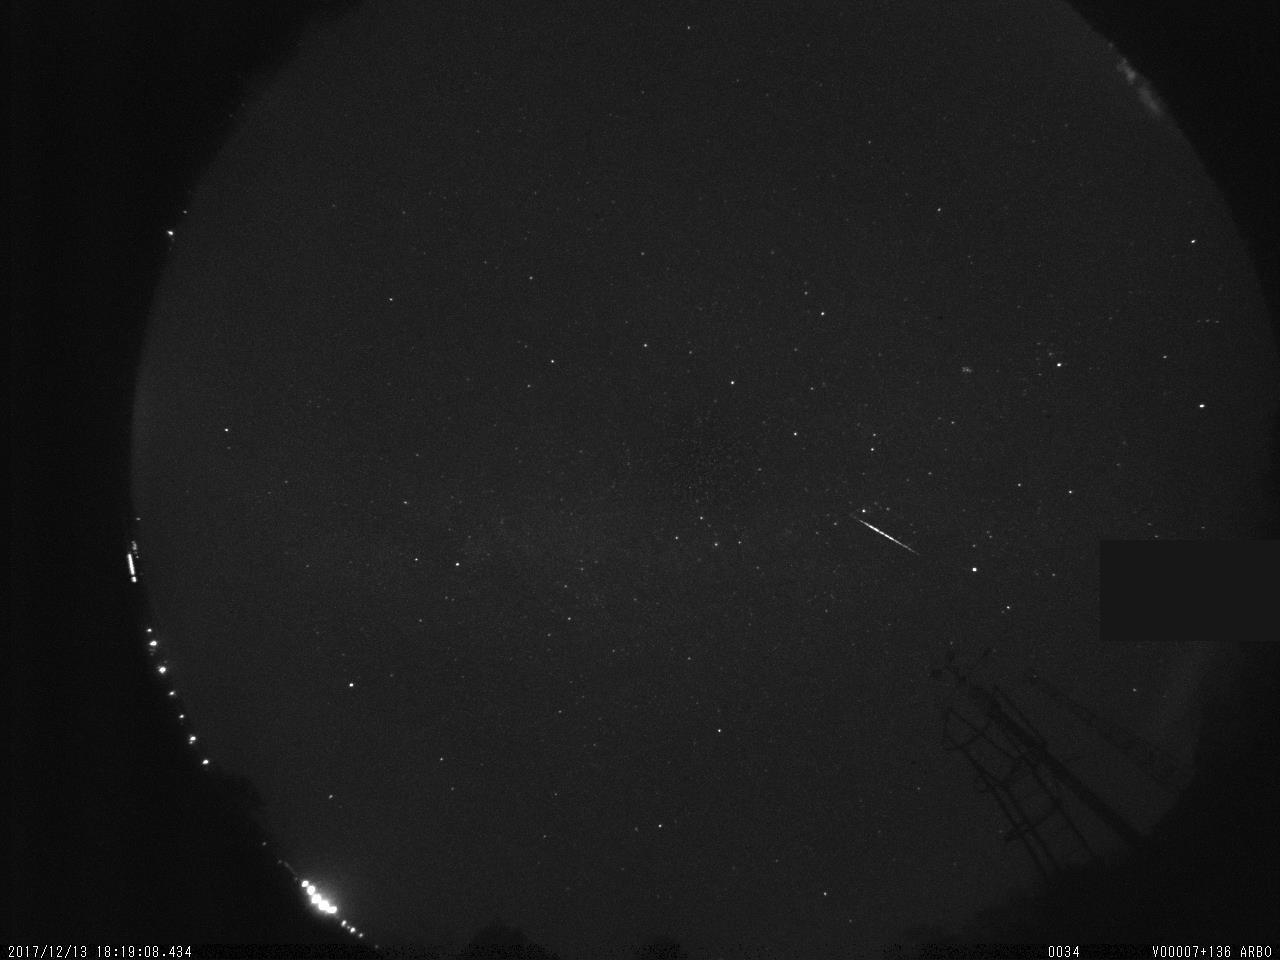meteor: (848, 500, 922, 571)
